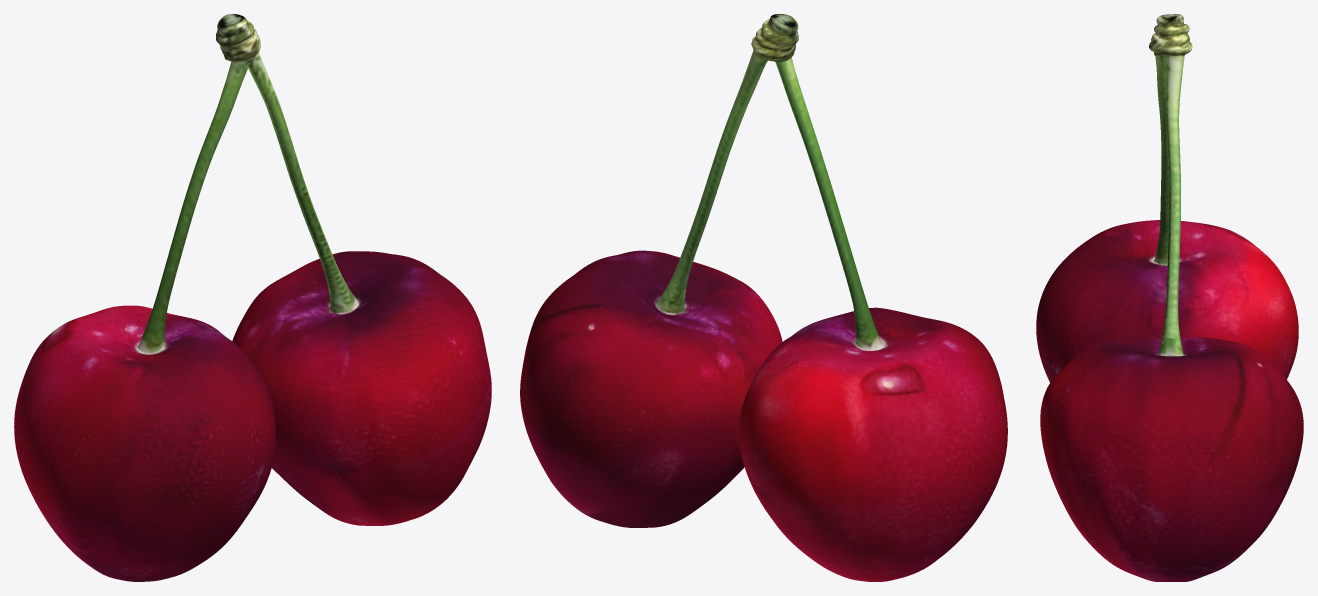
File: Ciliege.glb
The picture shows the model from 3 angles, left to right: view 1: azimuth 30°, elevation 25°; view 2: azimuth 150°, elevation 25°; view 3: azimuth 270°, elevation 25°; orthographic projection. The views are drawn at different scales.
Size of the model in its own units: 1.66 by 1.9 by 0.9346.
Materials: 1 (1 with a texture image).
